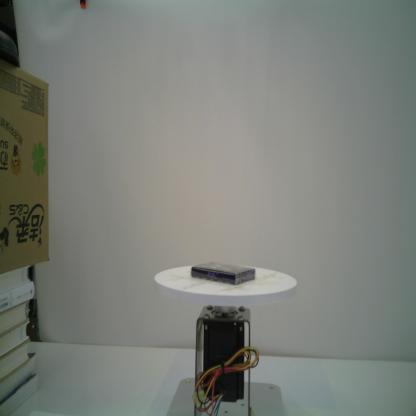Gum: (190, 261, 256, 286)
